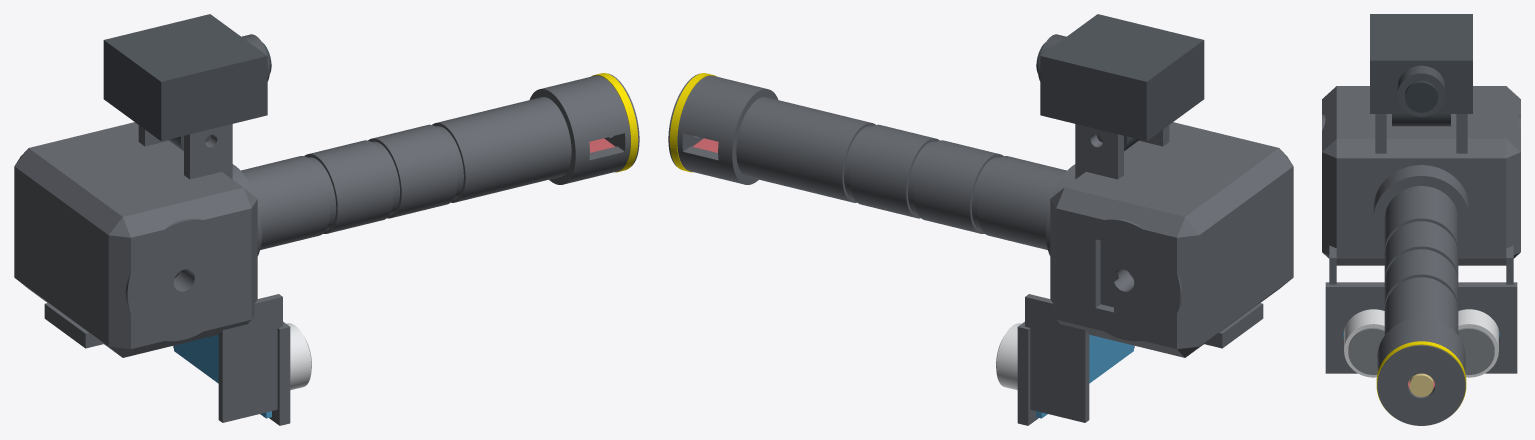
File: fase2_canon_cuna.glb
3 views of the same model, side by side, from view 1: azimuth 30°, elevation 25°; view 2: azimuth 150°, elevation 25°; view 3: azimuth 270°, elevation 25° (orthographic). The views are drawn at different scales.
Visible parts, largest first — view 1: =>[0:1:1:4], =>[0:1:1:28], =>[0:1:1:16], =>[0:1:1:18], =>[0:1:1:6]; view 2: =>[0:1:1:4], =>[0:1:1:28], =>[0:1:1:16], =>[0:1:1:22], =>[0:1:1:6]; view 3: =>[0:1:1:4], =>[0:1:1:28], =>[0:1:1:20], =>[0:1:1:24], =>[0:1:1:30], =>[0:1:1:18], =>[0:1:1:22], =>[0:1:1:32], =>[0:1:1:26], =>[0:1:1:6], =>[0:1:1:10].
Part boxes in pixels (bbox=[...]): =>[0:1:1:4]: bbox=[14, 73, 639, 425]; =>[0:1:1:28]: bbox=[103, 14, 267, 141]; =>[0:1:1:16]: bbox=[174, 334, 271, 418]; =>[0:1:1:18]: bbox=[286, 323, 311, 390]; =>[0:1:1:6]: bbox=[591, 73, 638, 172]; =>[0:1:1:4]: bbox=[668, 73, 1293, 425]; =>[0:1:1:28]: bbox=[1040, 14, 1204, 141]; =>[0:1:1:16]: bbox=[1036, 334, 1133, 418]; =>[0:1:1:22]: bbox=[996, 323, 1021, 390]; =>[0:1:1:6]: bbox=[669, 73, 716, 172]; =>[0:1:1:4]: bbox=[1322, 86, 1520, 425]; =>[0:1:1:28]: bbox=[1370, 14, 1472, 113]; =>[0:1:1:20]: bbox=[1348, 327, 1384, 374]; =>[0:1:1:24]: bbox=[1458, 327, 1494, 374]; =>[0:1:1:30]: bbox=[1397, 65, 1445, 116]; =>[0:1:1:18]: bbox=[1344, 309, 1384, 377]; =>[0:1:1:22]: bbox=[1458, 309, 1498, 377]; =>[0:1:1:32]: bbox=[1405, 80, 1437, 112]; =>[0:1:1:26]: bbox=[1392, 114, 1450, 126]; =>[0:1:1:6]: bbox=[1376, 341, 1466, 416]; =>[0:1:1:10]: bbox=[1409, 373, 1433, 397].
Bounding box in the file's own units: 0.1562 × 0.094 × 0.054.
